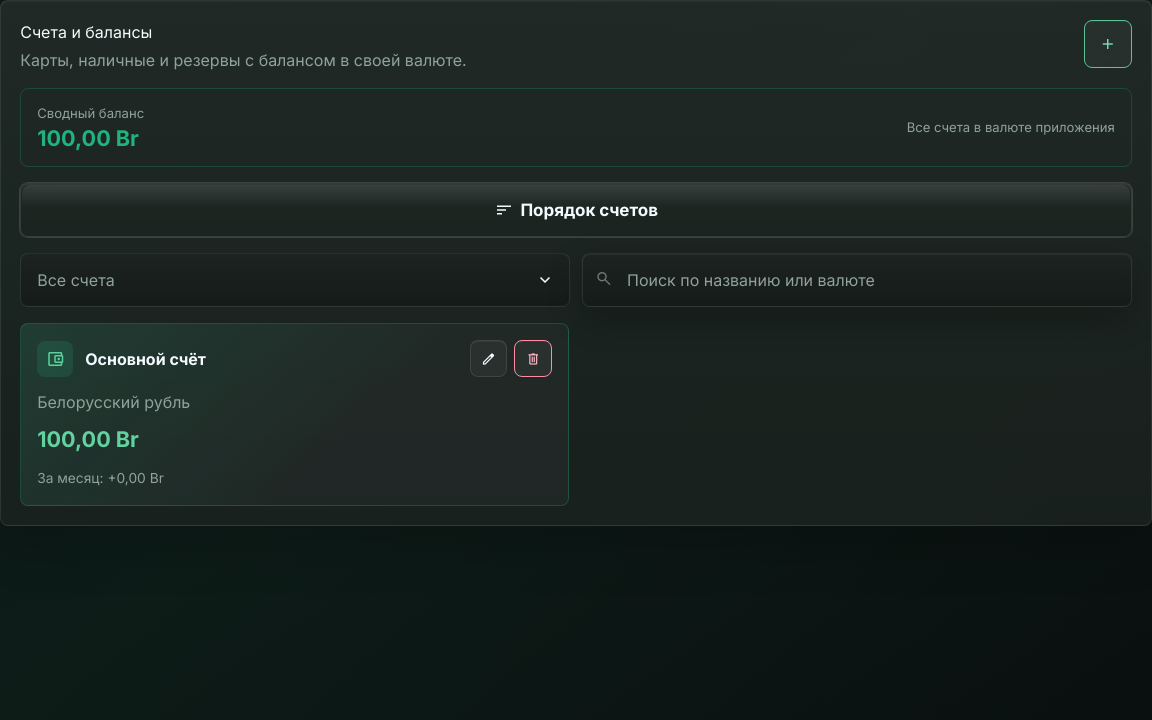
Test: AccountListPanelComponent › cancels account deletion with escape
Click the button with test id "delete-account" at [533, 359], box [514,340,552,377]
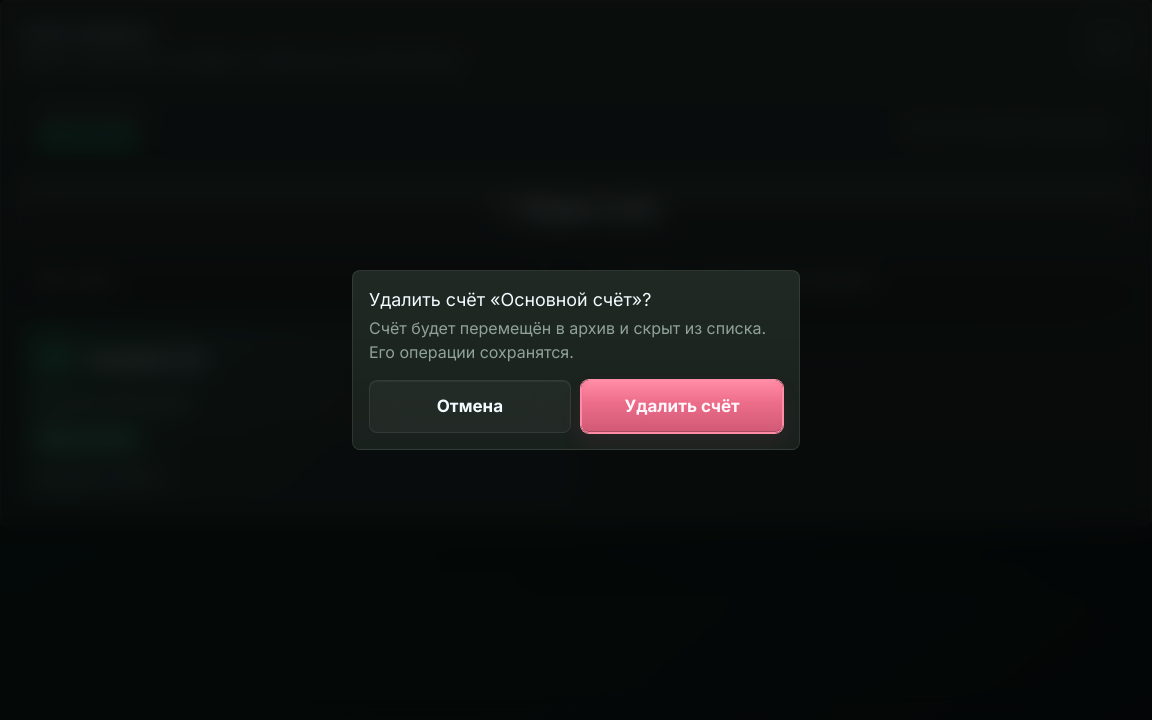
Press Escape in the element with class "ms-modal-backdrop"
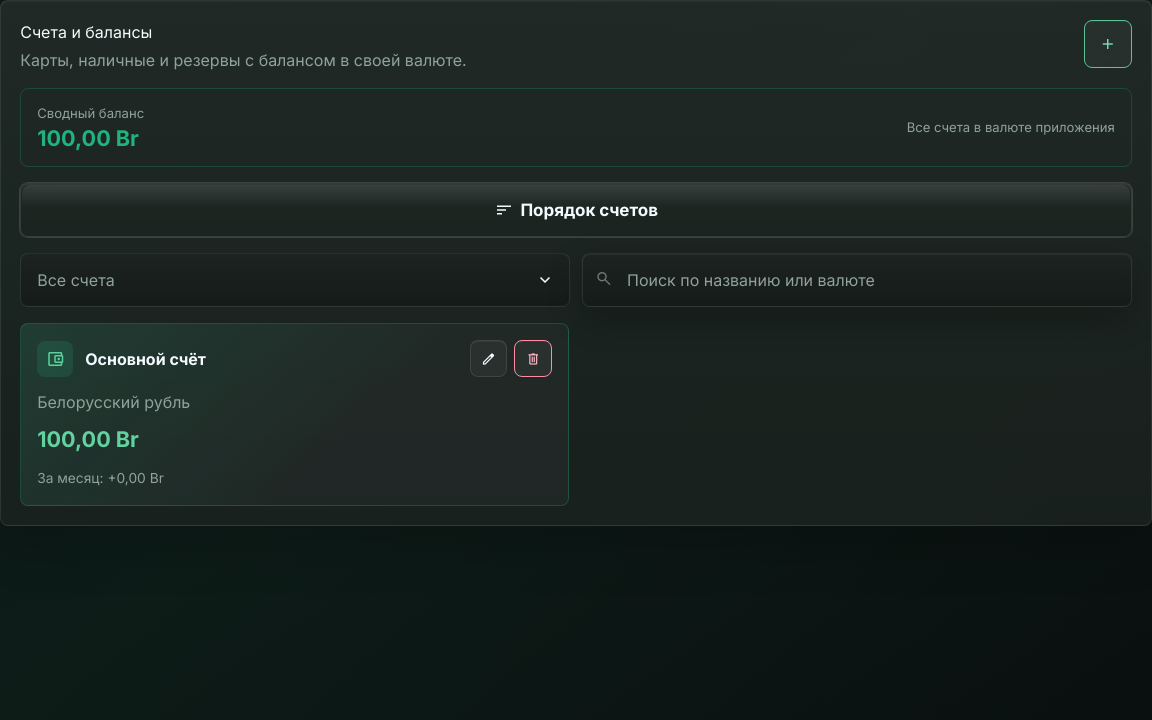
Expected: the dialog is gone
